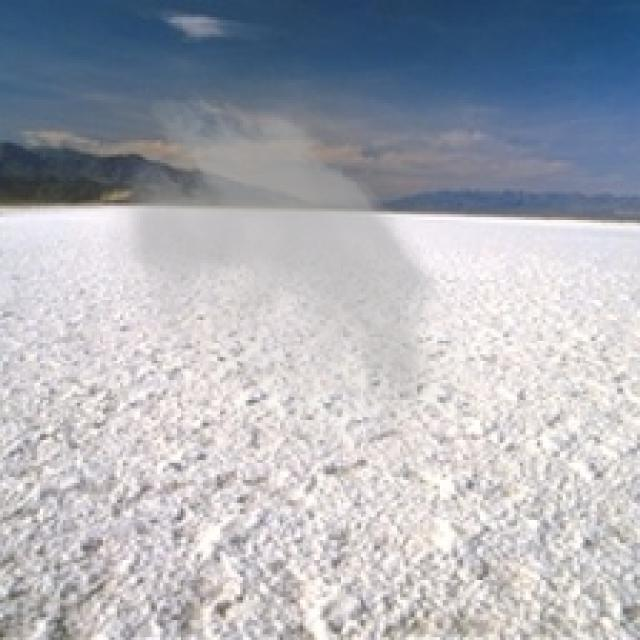Smoke: (86, 83, 486, 500)
